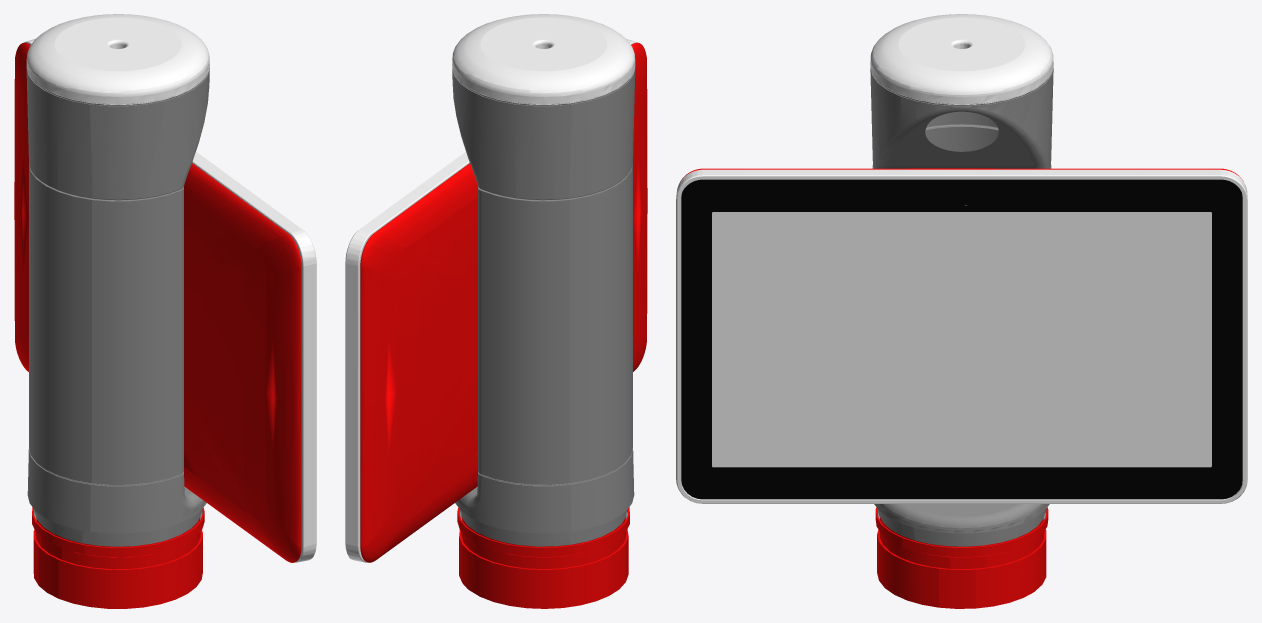
The model's file is head.DAE.
3 views of the same model, side by side, from view 1: azimuth 30°, elevation 25°; view 2: azimuth 150°, elevation 25°; view 3: azimuth 270°, elevation 25° (orthographic).
Parts seen in each view (by area): view 1: _3DGeom_279, _3DGeom_275, _3DGeom_278; view 2: _3DGeom_279, _3DGeom_275, _3DGeom_278; view 3: _3DGeom_278, _3DGeom_276, _3DGeom_279, _3DGeom_275.
Boxes of the visible parts, x1,y1,x2,y2 form: _3DGeom_279: (26,67,209,557); _3DGeom_275: (14,42,301,562); _3DGeom_278: (24,14,316,608); _3DGeom_279: (452,67,635,556); _3DGeom_275: (360,42,647,562); _3DGeom_278: (345,14,637,608); _3DGeom_278: (676,14,1247,608); _3DGeom_276: (681,179,1242,499); _3DGeom_279: (870,67,1053,556); _3DGeom_275: (680,168,1243,181).
Size of the model in its own units: 0.0819 by 0.256 by 0.2612.
